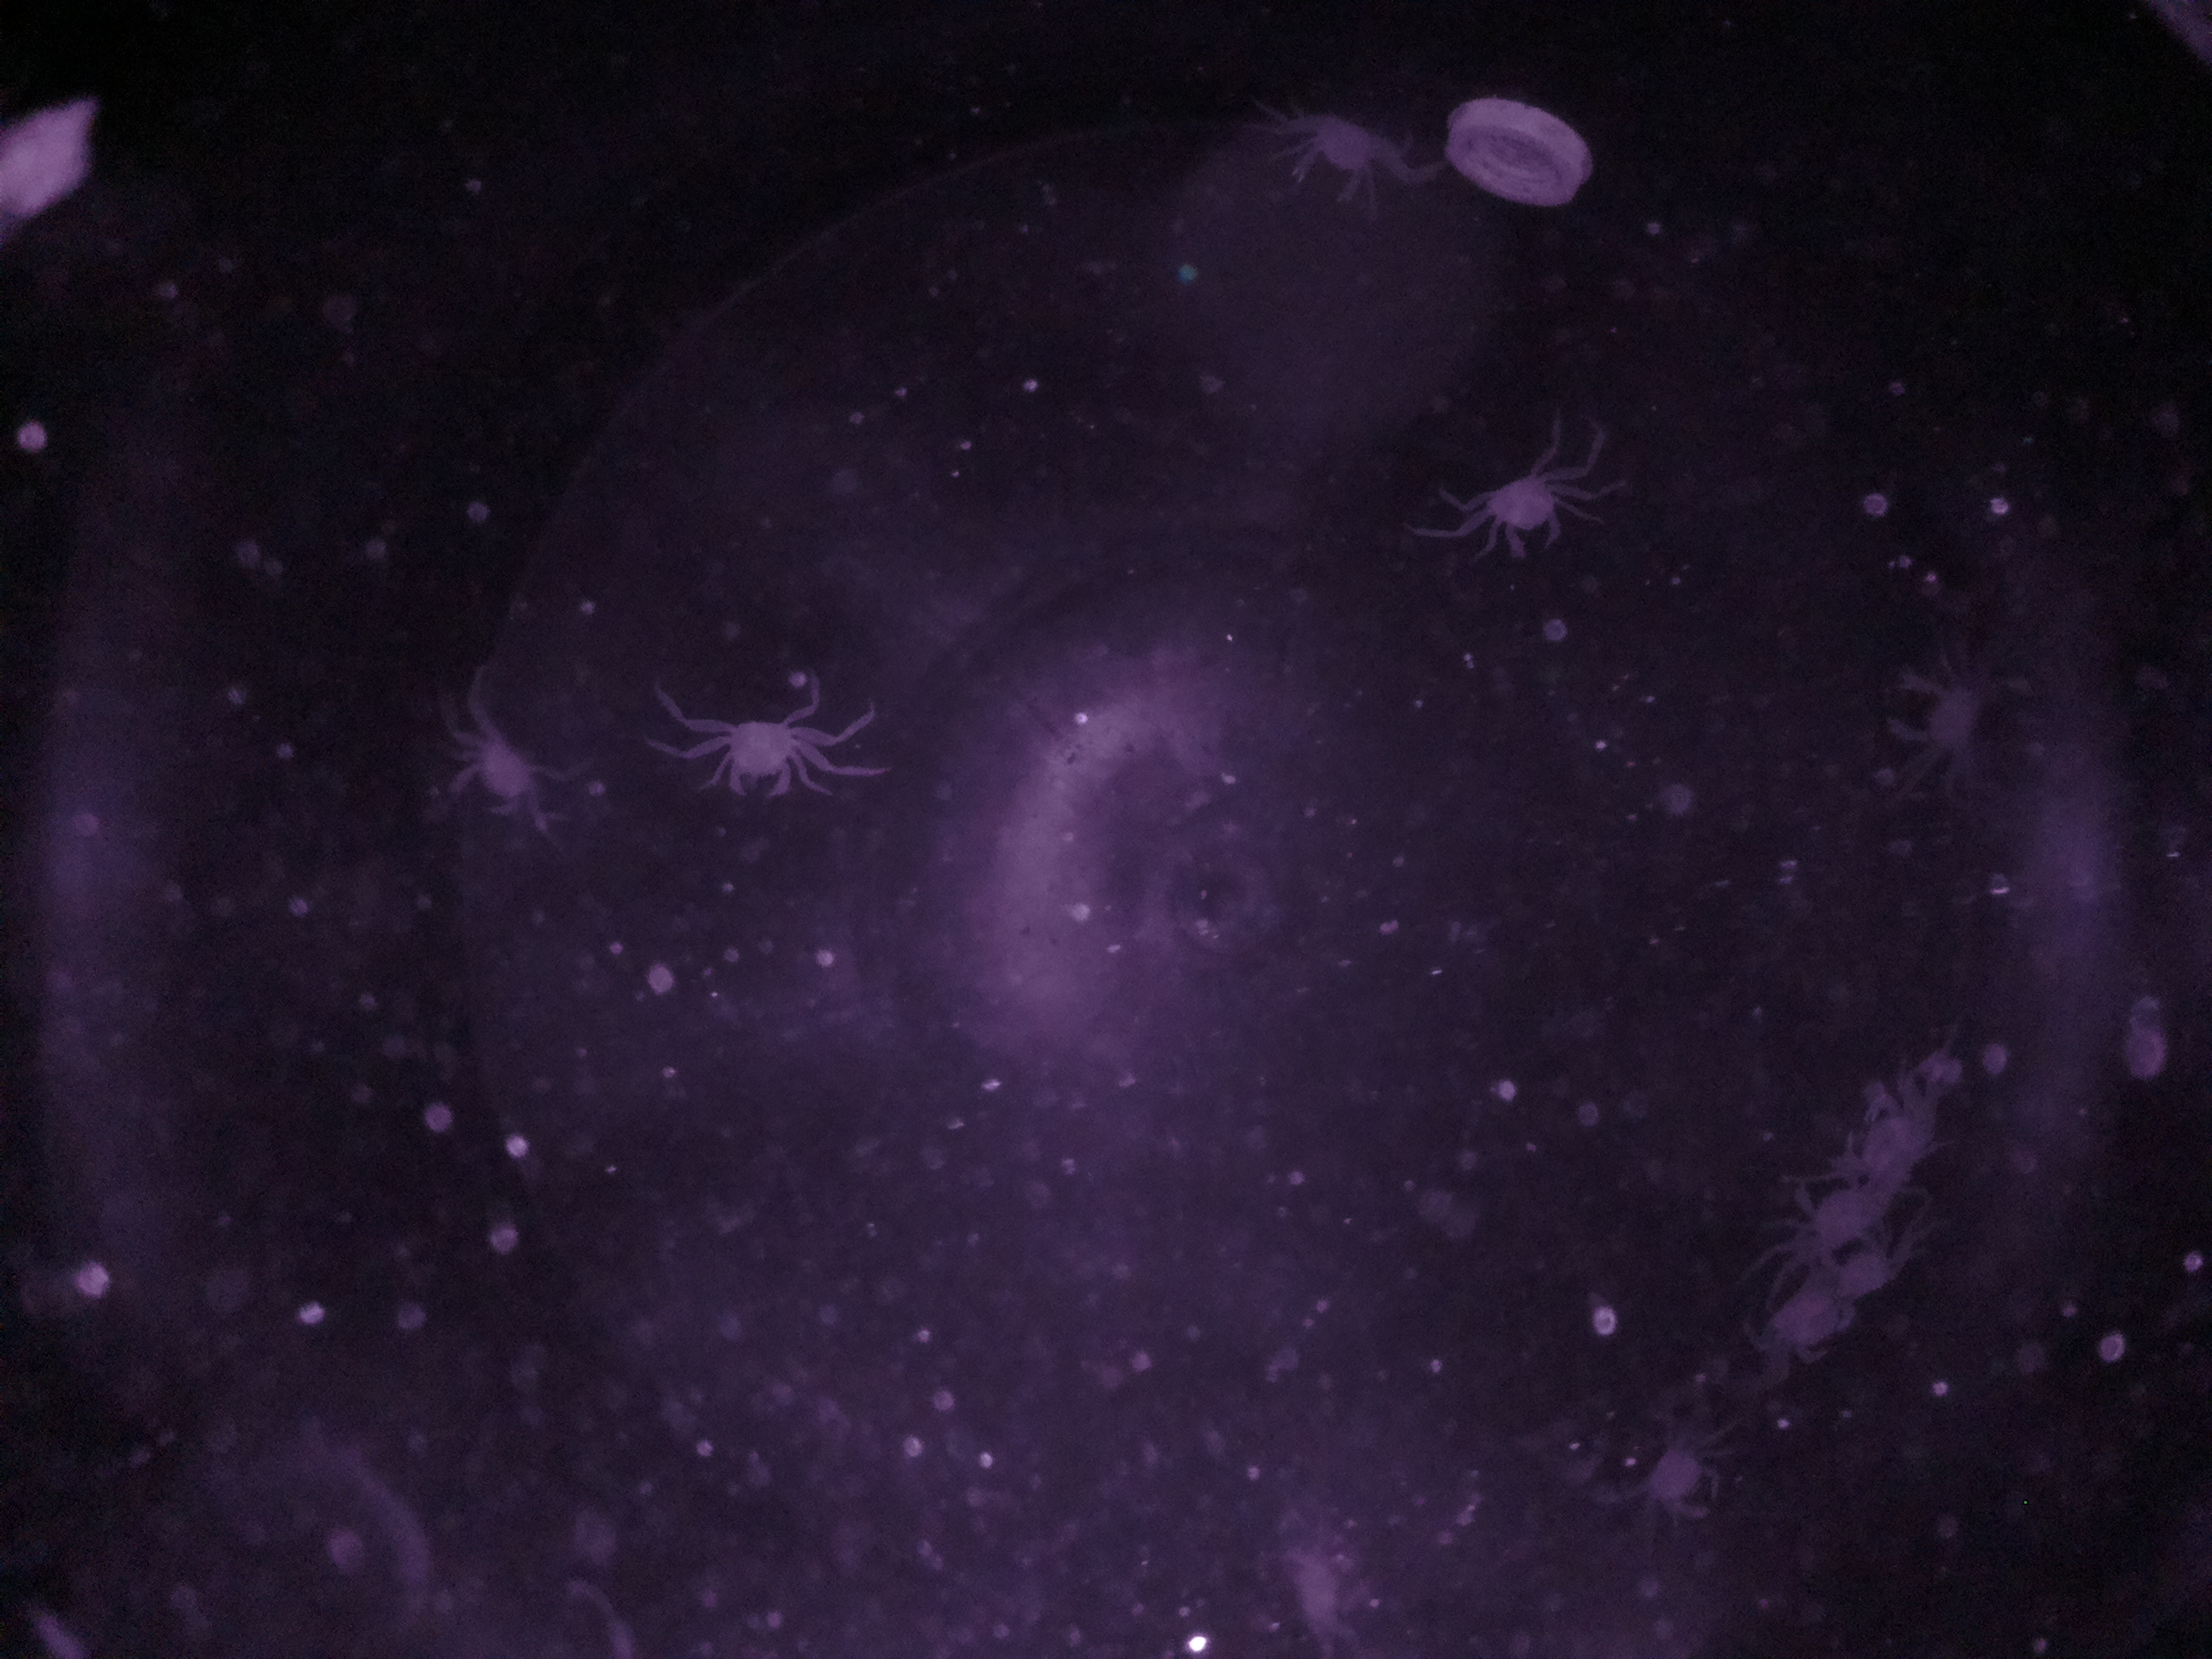Crab: (1876, 660, 2000, 781), (1280, 101, 1395, 218), (1467, 462, 1581, 570), (707, 695, 817, 807), (1623, 1438, 1737, 1535), (442, 725, 542, 831)
